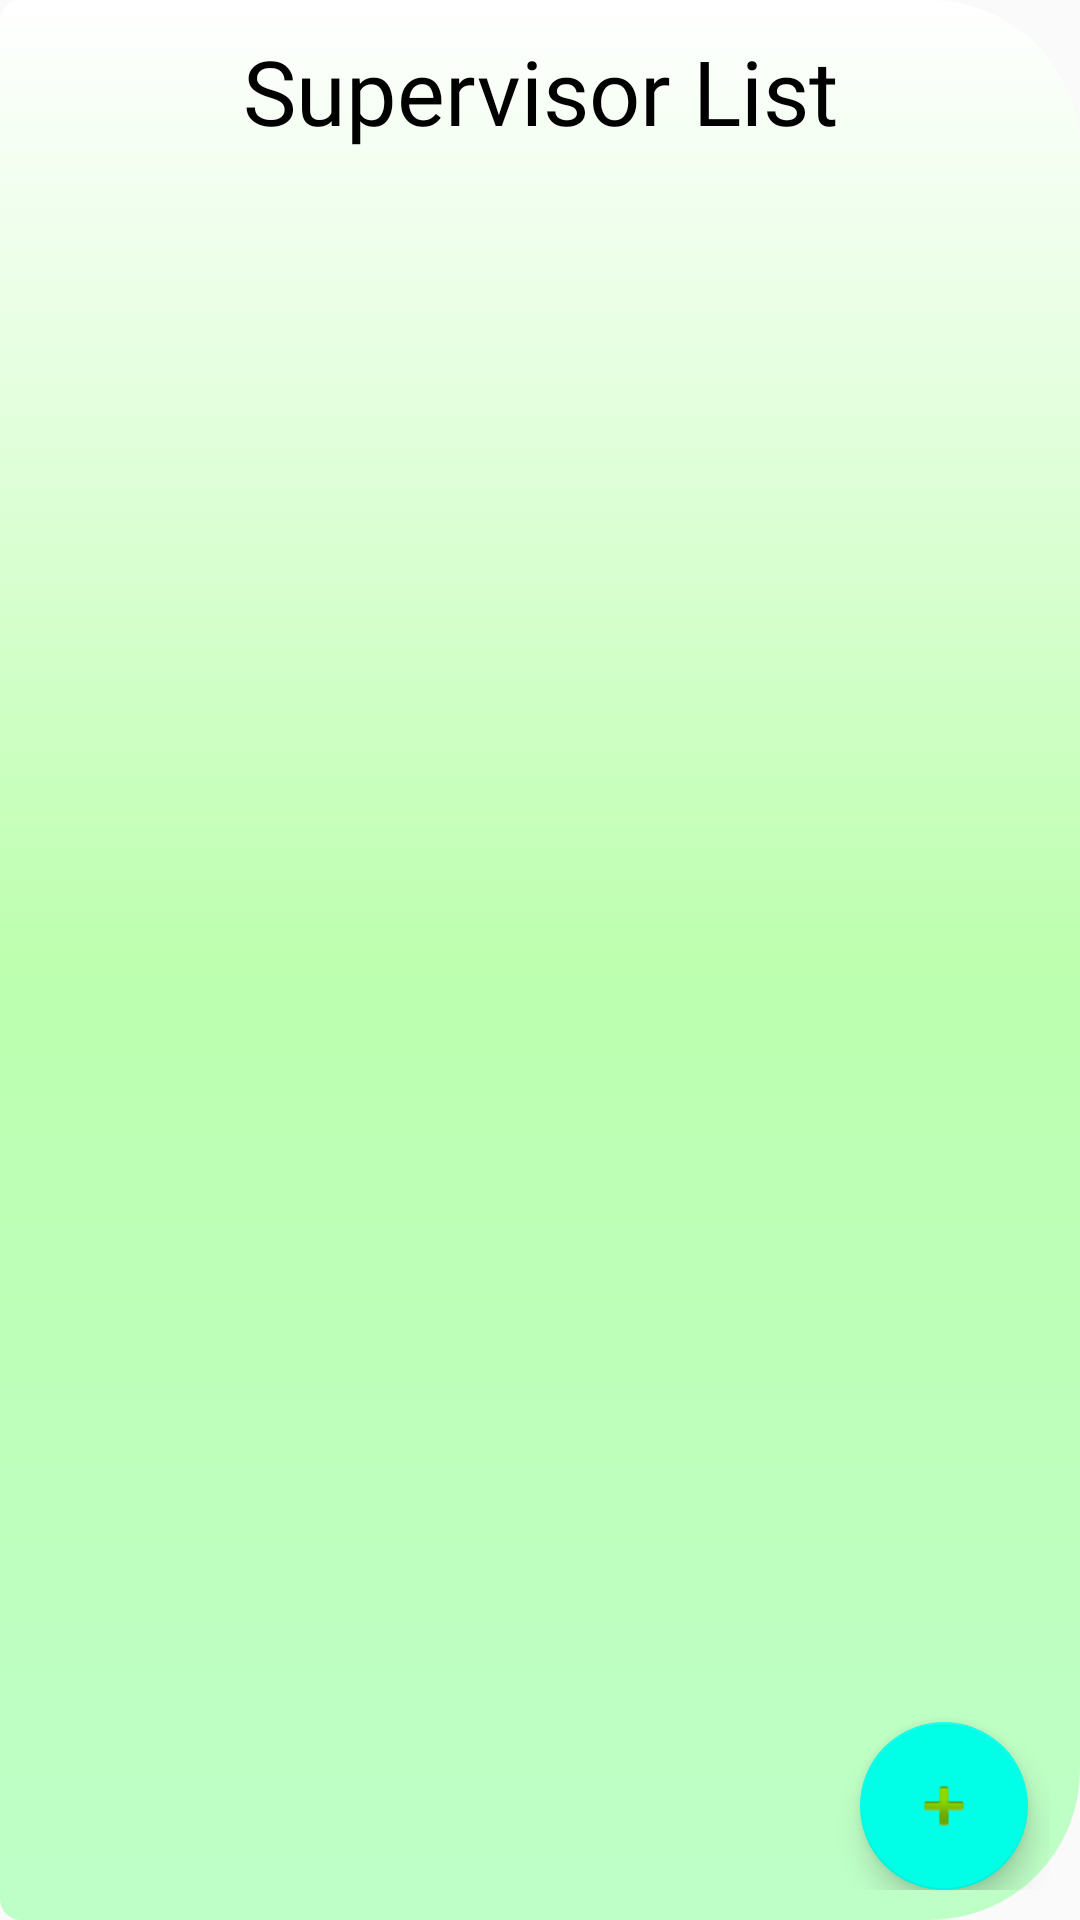

Icons on this 1080w x 1920h Android screen, each with the point to tap as [x,y]:
add: [944,1806]
